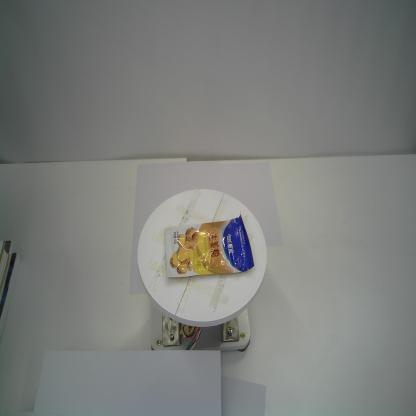Seasoner: (164, 211, 255, 278)
